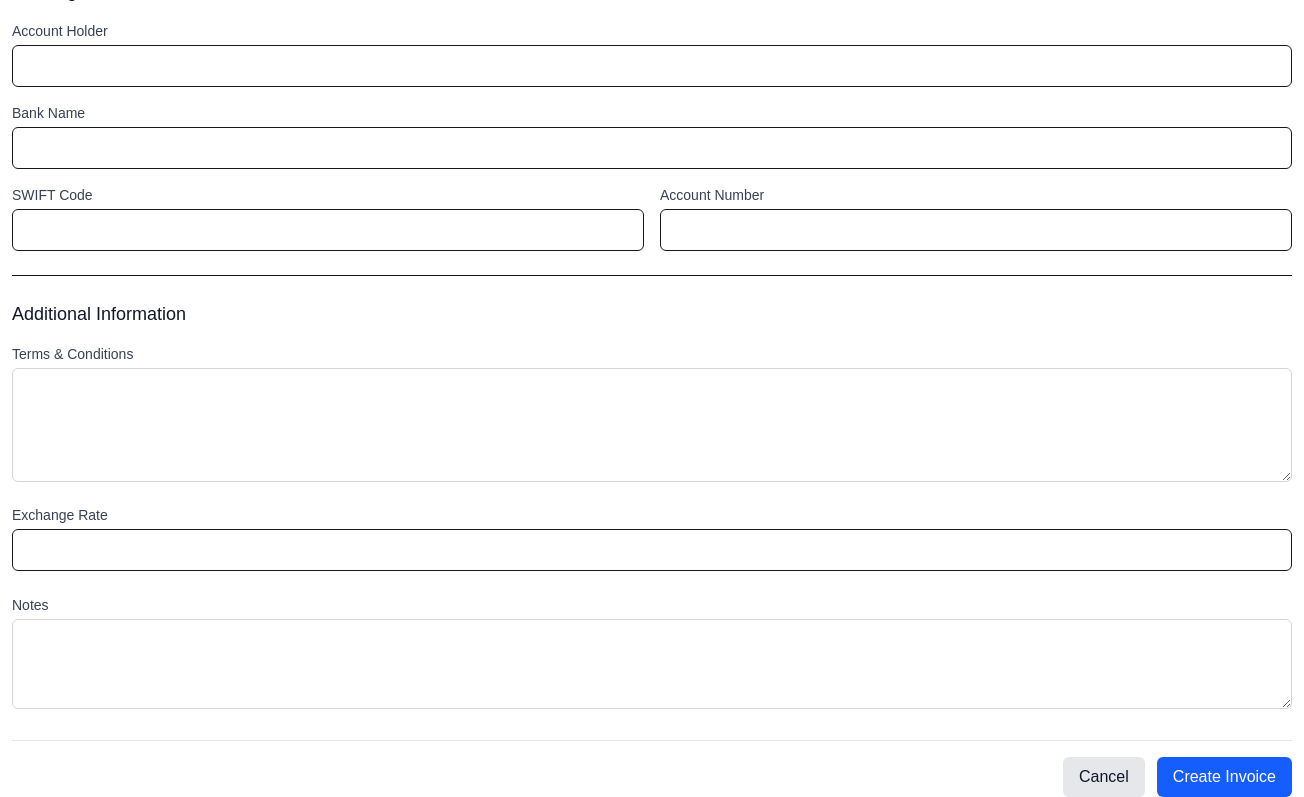
Test: InvoiceForm › validates items exist before submit
(page scrolled)
Click the button "Create Invoice": (1224,777) [1157, 757, 1292, 796]
(page scrolled)
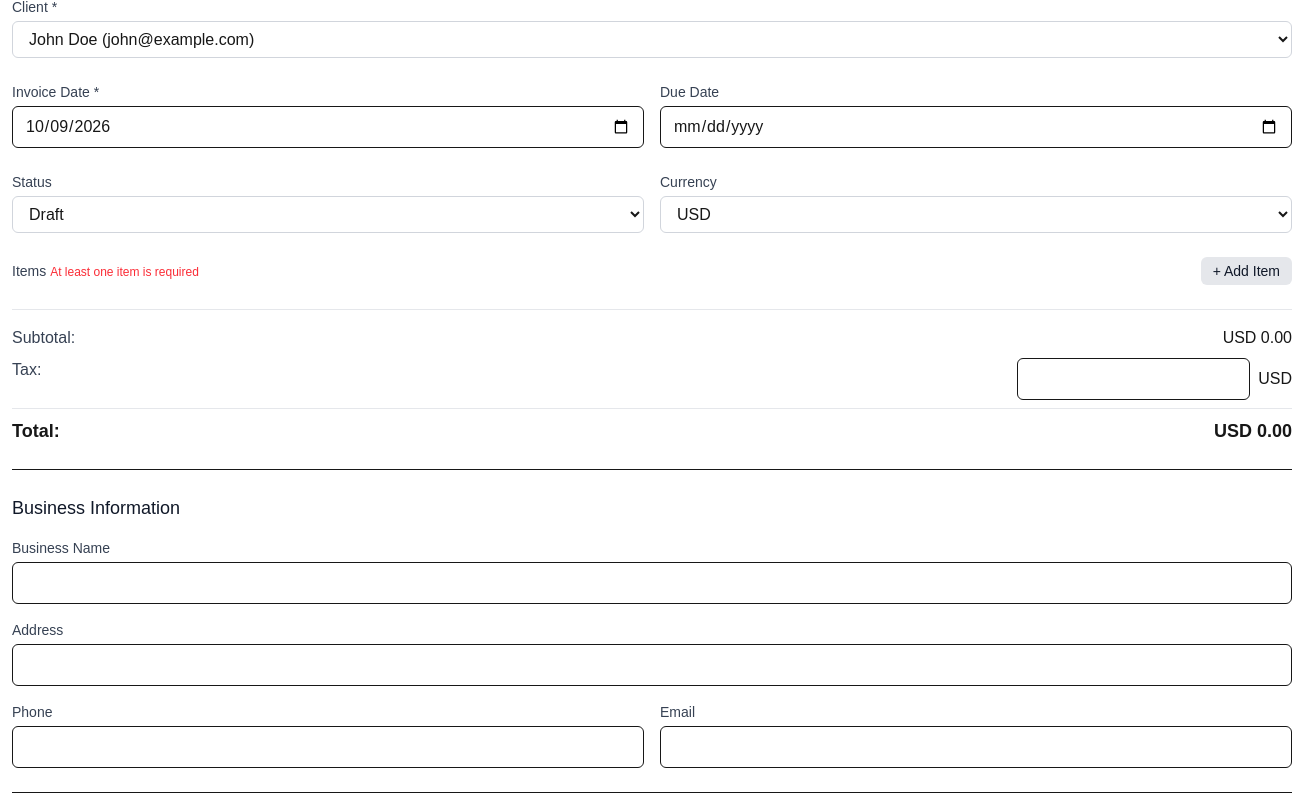
Check: the text "At least one item is required" is shown, box [50, 265, 199, 279]
